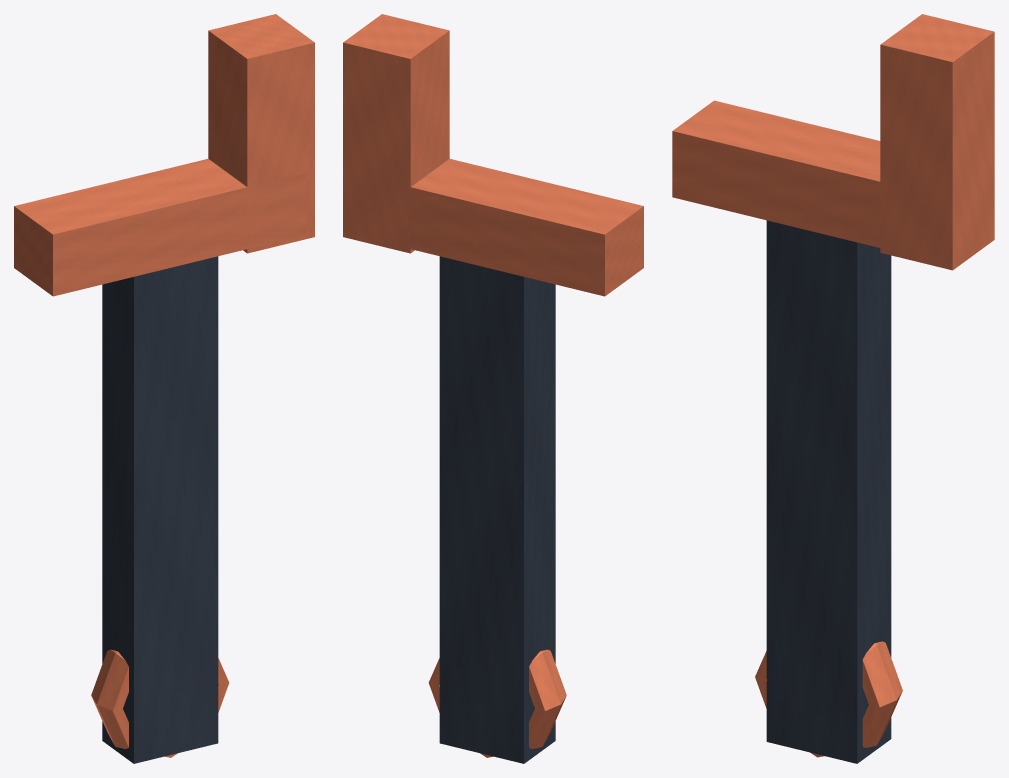
File: atlas100-s025-a05.lod1.glb
The picture shows the model from 3 angles, left to right: view 1: azimuth 30°, elevation 25°; view 2: azimuth 150°, elevation 25°; view 3: azimuth 330°, elevation 25°; orthographic projection. The views are drawn at different scales.
Parts seen in each view (by area): view 1: atlas100-s025-a05:part-000, atlas100-s025-a05:part-003, atlas100-s025-a05:part-002, atlas100-s025-a05:part-004; view 2: atlas100-s025-a05:part-000, atlas100-s025-a05:part-003, atlas100-s025-a05:part-002, atlas100-s025-a05:part-004; view 3: atlas100-s025-a05:part-000, atlas100-s025-a05:part-002, atlas100-s025-a05:part-003, atlas100-s025-a05:part-004.
Boxes of the visible parts, left/top/right/bottom form: atlas100-s025-a05:part-000: left=102, top=256, right=218, bottom=763; atlas100-s025-a05:part-003: left=14, top=158, right=306, bottom=296; atlas100-s025-a05:part-002: left=208, top=14, right=314, bottom=253; atlas100-s025-a05:part-004: left=91, top=649, right=229, bottom=757; atlas100-s025-a05:part-000: left=439, top=256, right=555, bottom=763; atlas100-s025-a05:part-003: left=351, top=158, right=643, bottom=296; atlas100-s025-a05:part-002: left=343, top=14, right=449, bottom=253; atlas100-s025-a05:part-004: left=428, top=649, right=566, bottom=757; atlas100-s025-a05:part-000: left=766, top=220, right=891, bottom=763; atlas100-s025-a05:part-002: left=880, top=14, right=994, bottom=270; atlas100-s025-a05:part-003: left=672, top=100, right=943, bottom=260; atlas100-s025-a05:part-004: left=755, top=641, right=902, bottom=757.
Bounding box in the file's own units: 0.3385 × 0.8572 × 0.0874.
Materials: 2 (2 with a texture image).
